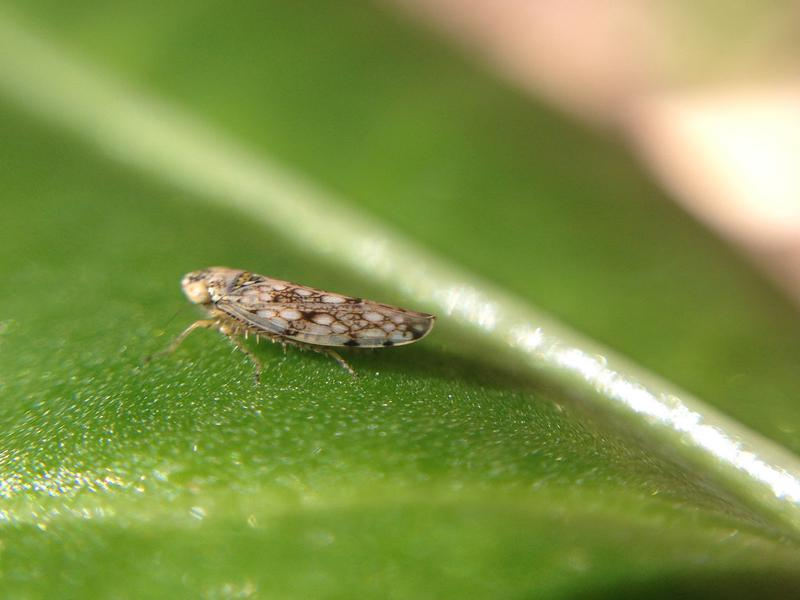Brown_plant_leafhopper: (158, 254, 461, 404)
